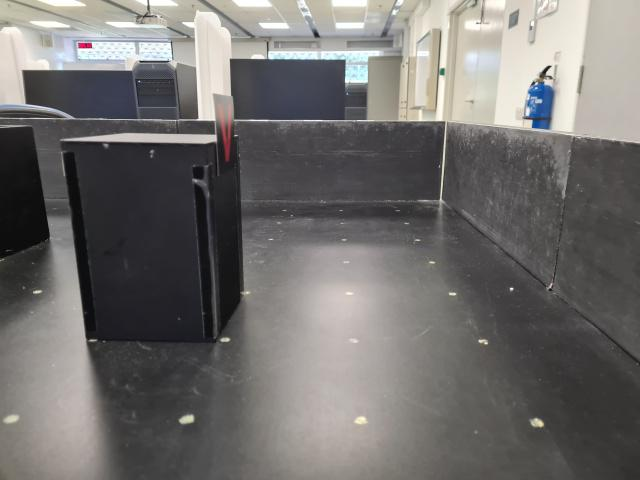v: (212, 92, 241, 175)
